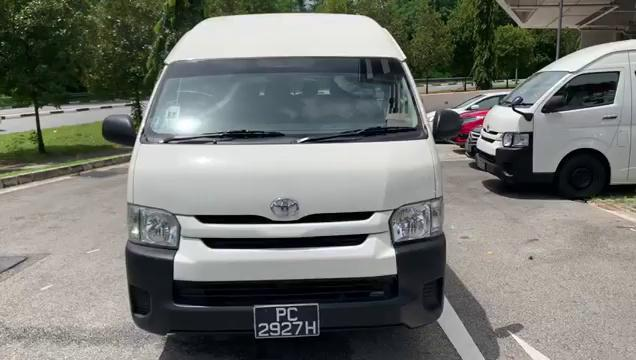van: (126, 12, 450, 340)
